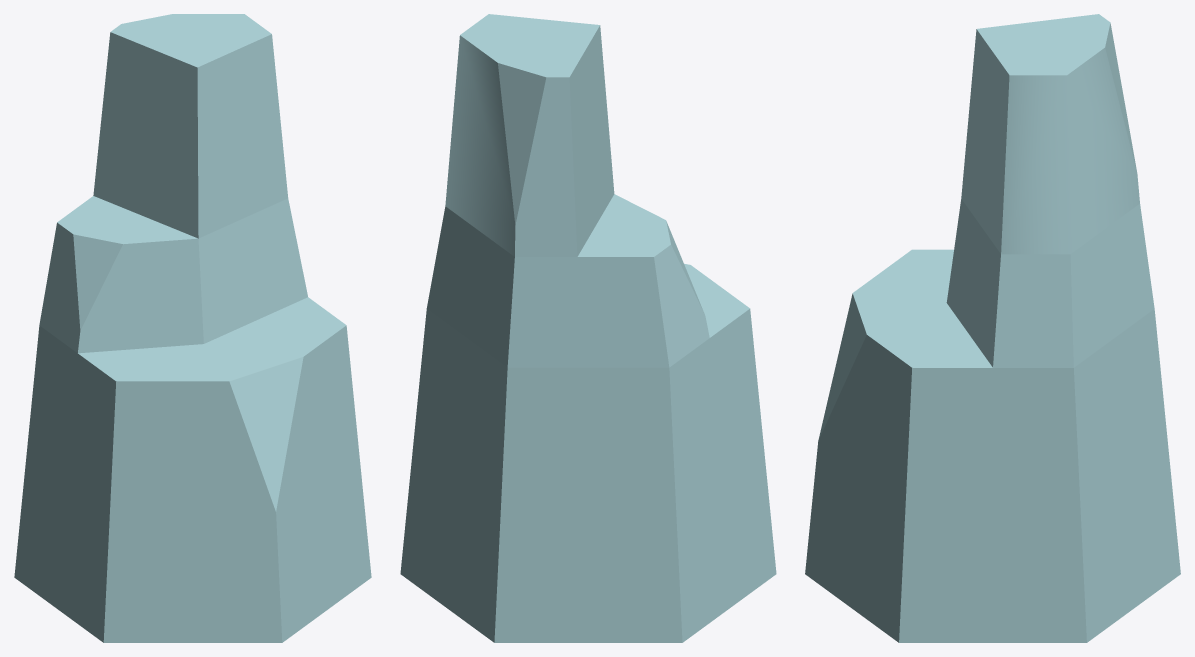
Rendered from stone_tallG.fbx.
The picture shows the model from 3 angles, left to right: view 1: azimuth 30°, elevation 25°; view 2: azimuth 150°, elevation 25°; view 3: azimuth 270°, elevation 25°; orthographic projection. The views are drawn at different scales.
Parts seen in each view (by area): view 1: stone_tallG; view 2: stone_tallG; view 3: stone_tallG.
Part boxes in pixels (<box>): stone_tallG: <box>14,14,371,642</box>; stone_tallG: <box>400,14,776,642</box>; stone_tallG: <box>805,14,1180,642</box>.
Size of the model in its own units: 4.25 by 7.83 by 4.91.
